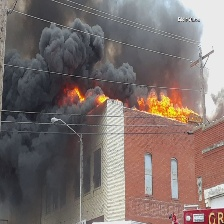fire: (136, 90, 202, 123), (59, 83, 117, 108)
smoke: (3, 1, 144, 206)
